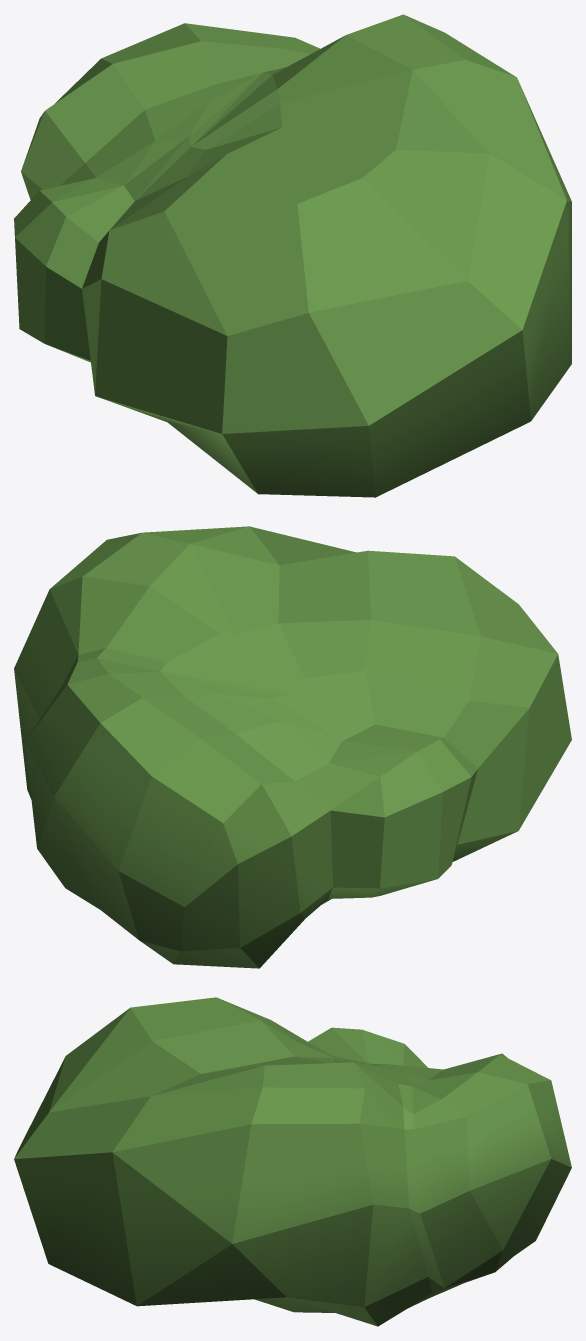
Rendered from Oak-Bush-07.fbx.
3 views of the same model, one above another, from view 1: azimuth 30°, elevation 25°; view 2: azimuth 150°, elevation 25°; view 3: azimuth 270°, elevation 25° (orthographic). The views are drawn at different scales.
Parts seen in each view (by area): view 1: Oak-Bush-07; view 2: Oak-Bush-07; view 3: Oak-Bush-07.
Boxes of the visible parts, left/top/right/bottom form: Oak-Bush-07: left=14, top=14, right=571, bottom=497; Oak-Bush-07: left=14, top=526, right=571, bottom=968; Oak-Bush-07: left=14, top=997, right=571, bottom=1326.
Bounding box in the file's own units: 529 × 347 × 661.
Materials: 1 (1 with a texture image).
